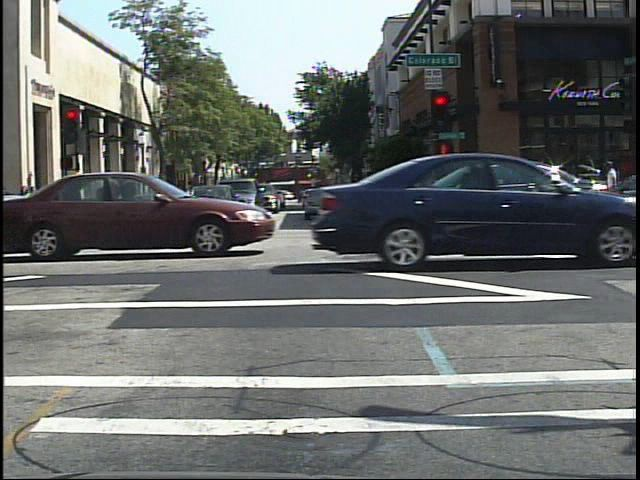person: (599, 156, 625, 221)
